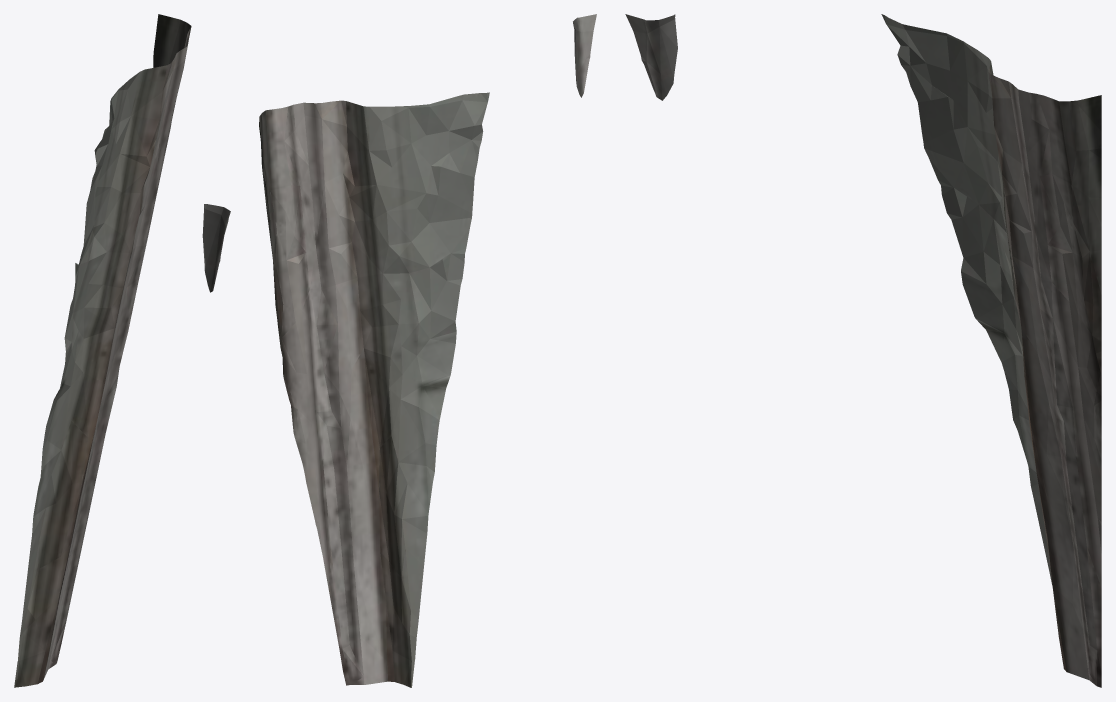
3 renders of one model, left to right at view 1: azimuth 30°, elevation 25°; view 2: azimuth 150°, elevation 25°; view 3: azimuth 270°, elevation 25°, orthographic. The views are drawn at different scales.
Bounding box in the file's own units: 0.2437 × 0.8374 × 0.5614.
1 material, 1 textured.
